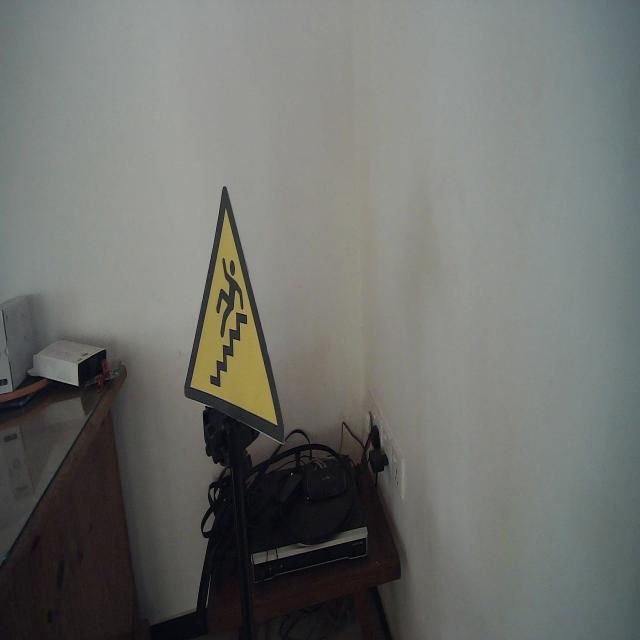stairs: (182, 182, 286, 446)
